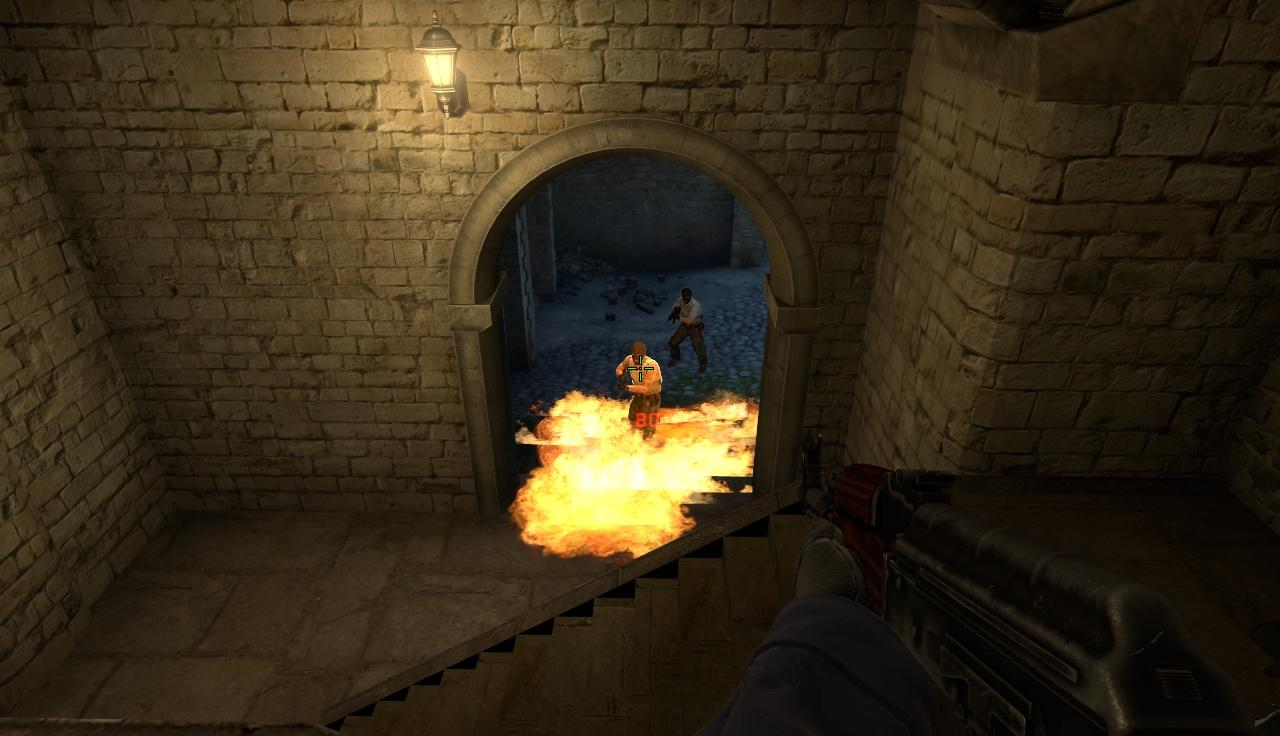rifle: (801, 425, 1280, 732)
tt: (618, 340, 662, 442), (671, 289, 705, 367)
tthead: (632, 342, 648, 364), (680, 288, 694, 305)
